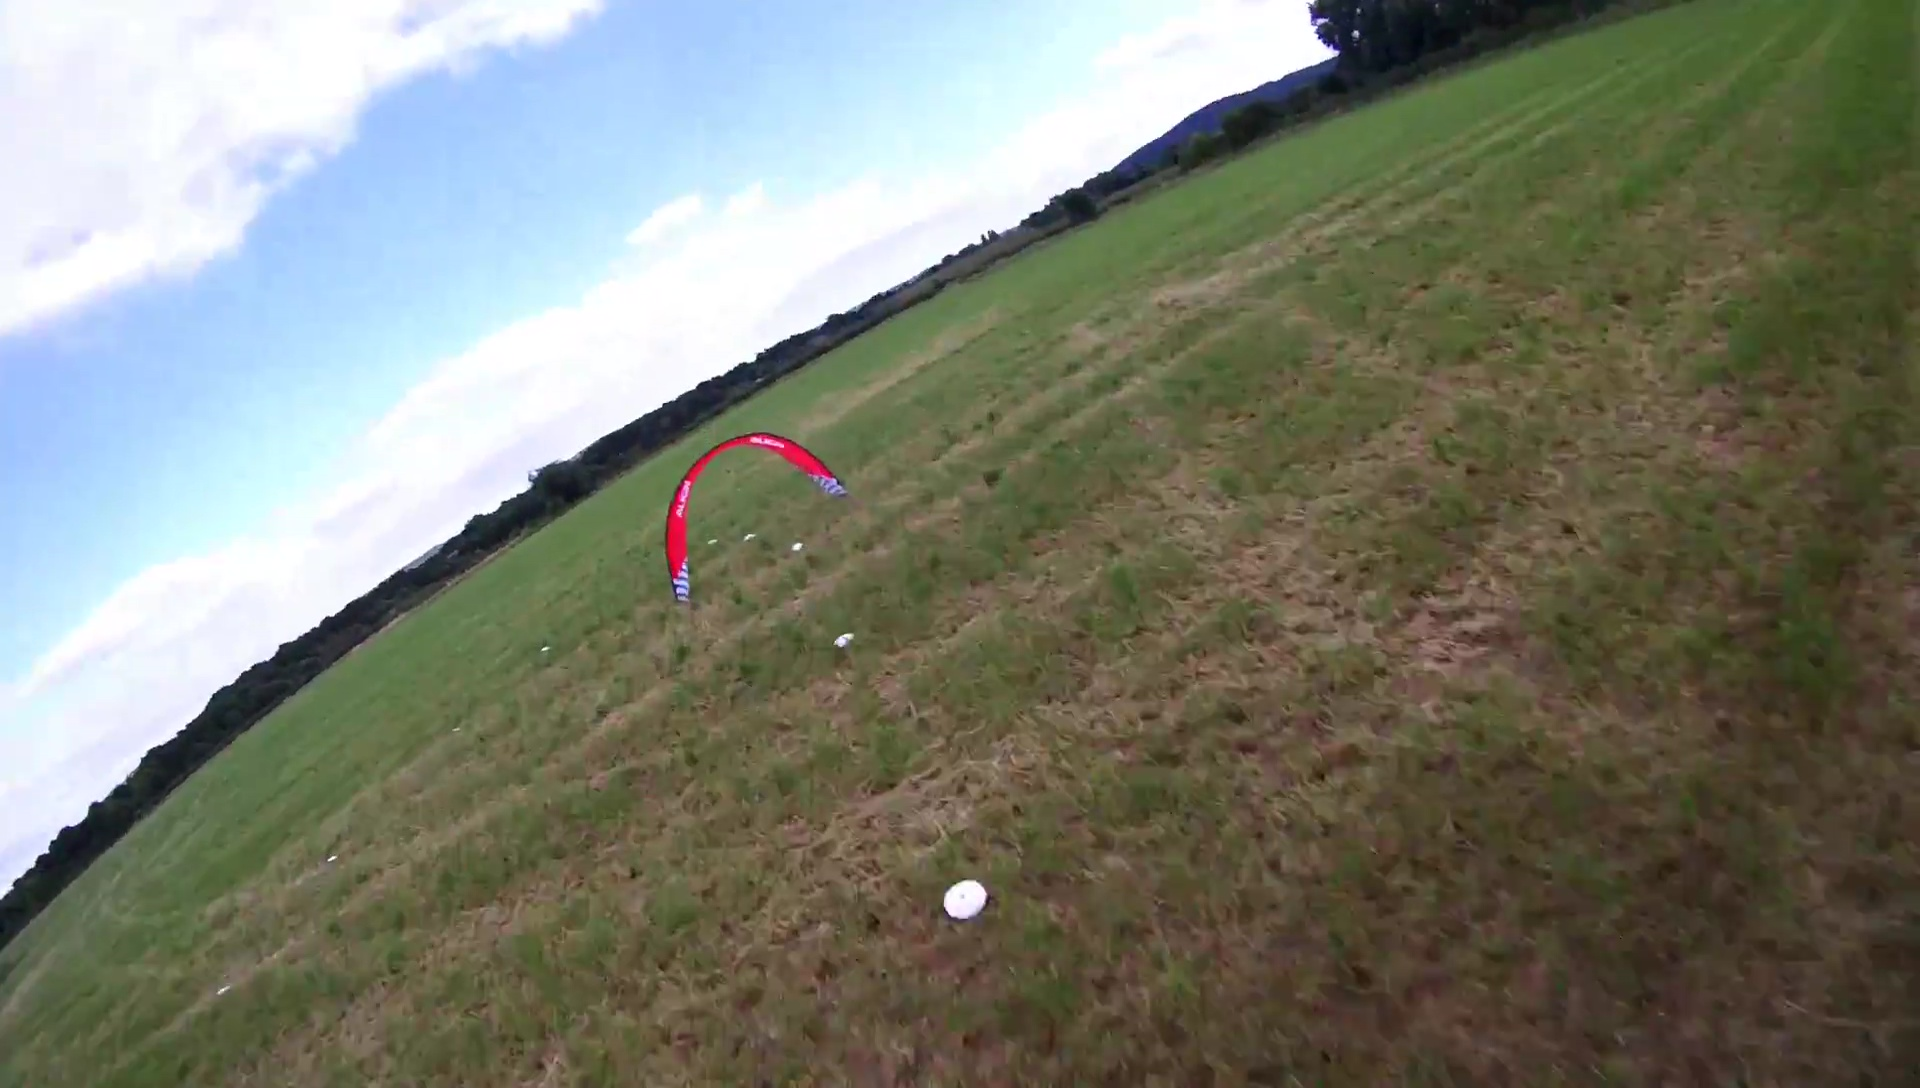gate: (662, 433, 851, 609)
